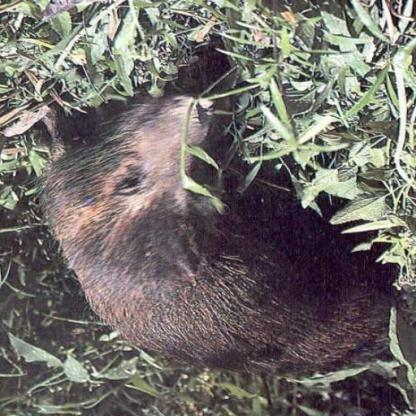boar: (50, 54, 401, 382)
